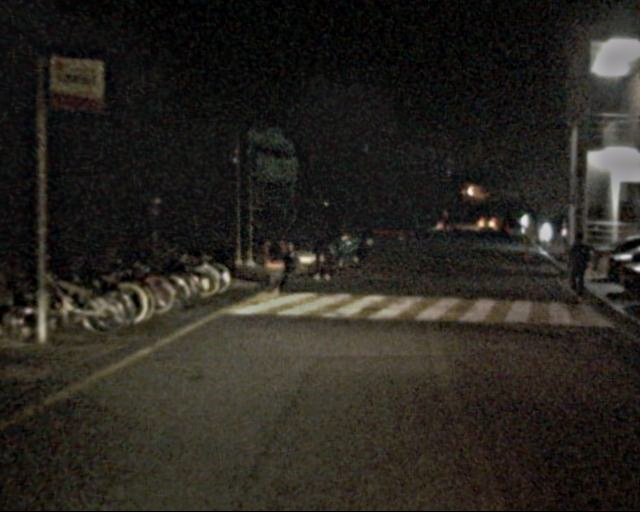person: (259, 226, 291, 303), (563, 232, 593, 306), (312, 225, 335, 281)
